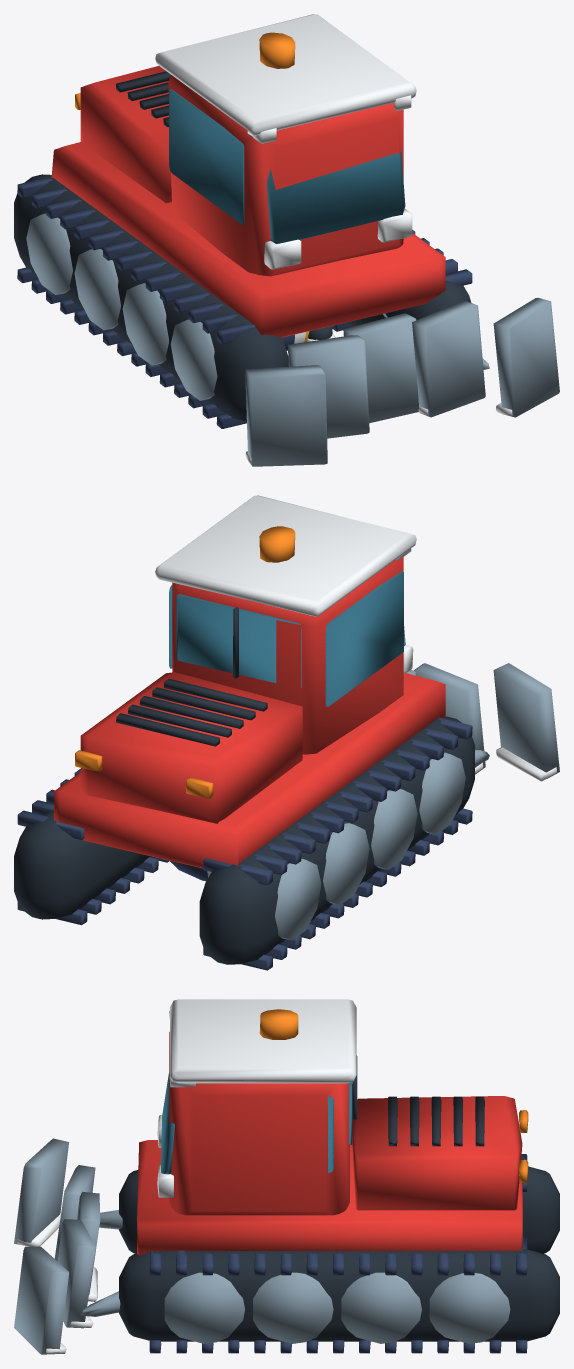
File: training-cast.glb
The picture shows the model from 3 angles, top to bottom: view 1: azimuth 30°, elevation 25°; view 2: azimuth 150°, elevation 25°; view 3: azimuth 270°, elevation 25°; orthographic projection. The views are drawn at different scales.
Parts seen in each view (by area): view 1: cat12A, tube60B; view 2: cat12A; view 3: cat12A.
Part boxes in pixels (x1,y1,x2,y2): cat12A: (14, 14, 559, 466); tube60B: (282, 324, 336, 350); cat12A: (14, 495, 559, 970); cat12A: (14, 999, 559, 1354).
Bounding box in the file's own units: 3.71 × 3.63 × 6.22.
